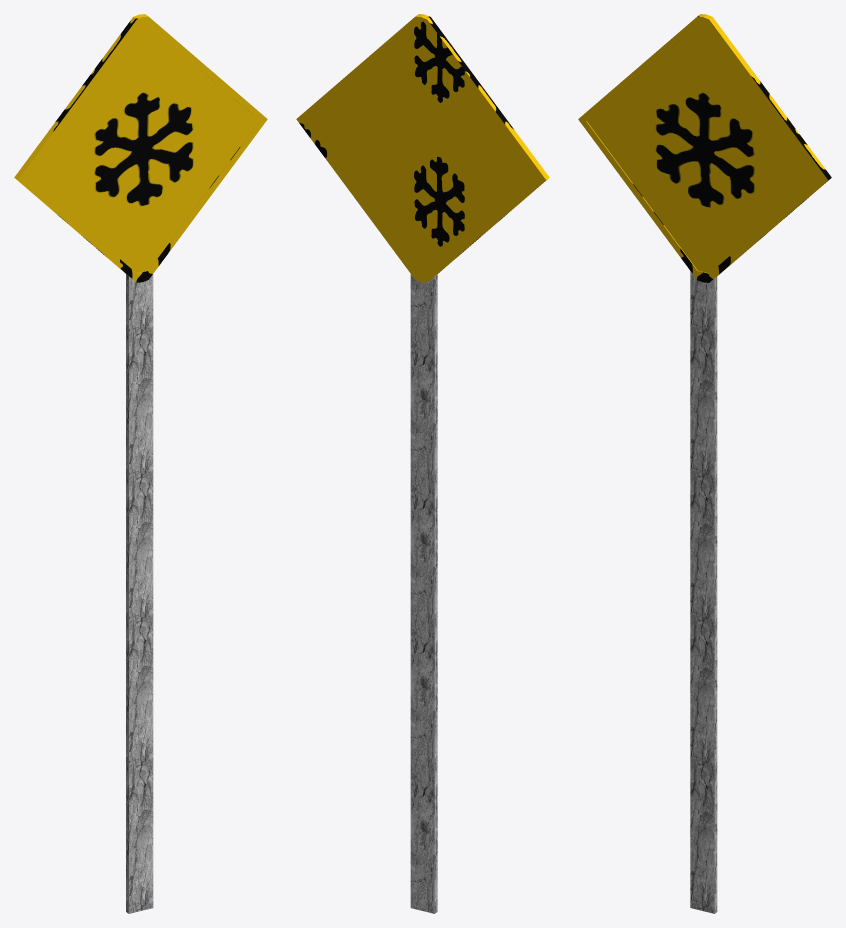
File: poste.obj
3 renders of one model, left to right at view 1: azimuth 30°, elevation 25°; view 2: azimuth 150°, elevation 25°; view 3: azimuth 330°, elevation 25°, orthographic.
Parts seen in each view (by area): view 1: polySurface2; view 2: polySurface2; view 3: polySurface2.
Part boxes in pixels (left/top/right/bottom): polySurface2: left=14, top=14, right=267, bottom=913; polySurface2: left=296, top=14, right=549, bottom=913; polySurface2: left=578, top=14, right=831, bottom=913.
Size of the model in its own units: 0.6055 by 2.07 by 0.015.
2 materials, 2 textured.
